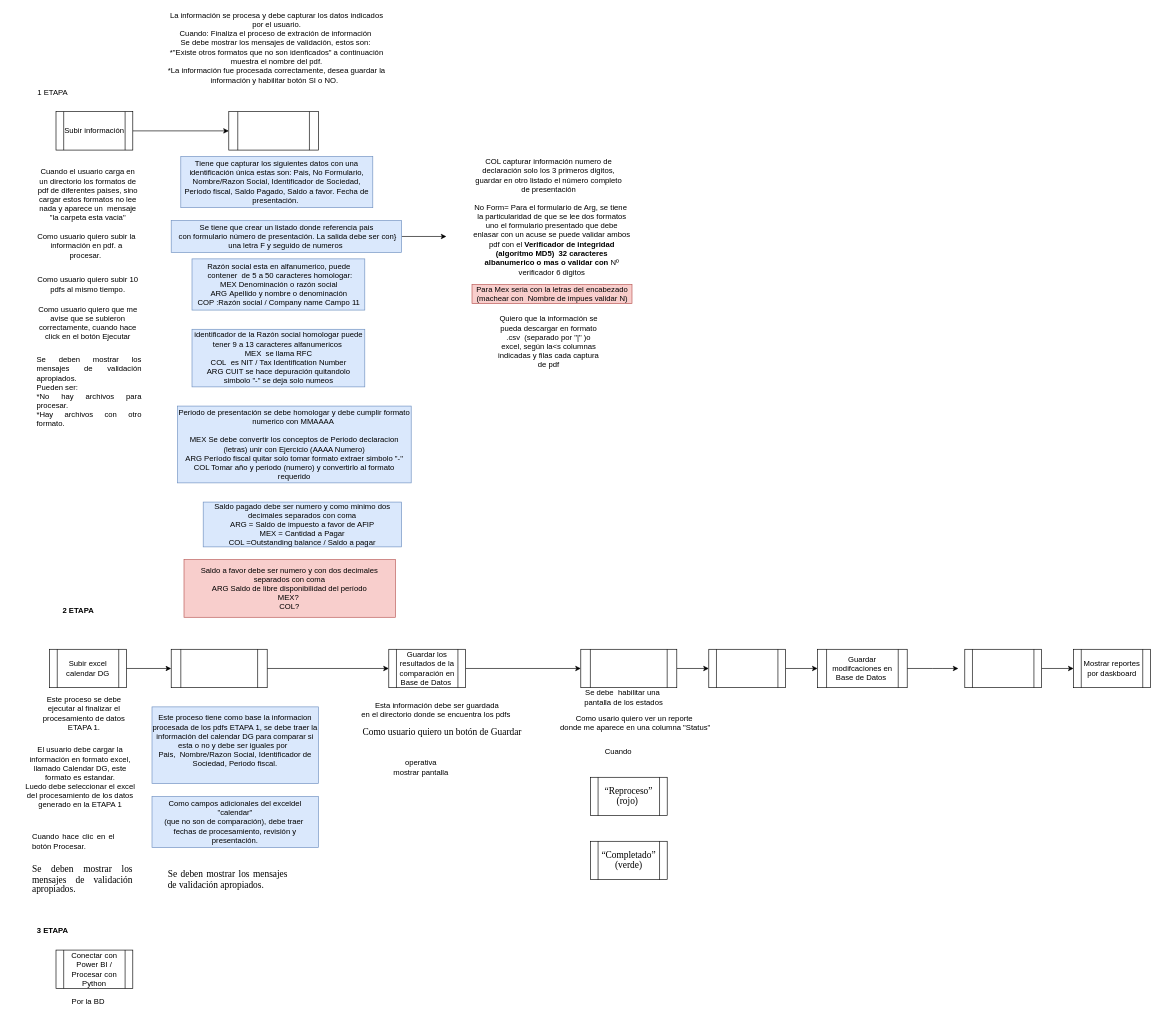
The diagram is 1162 pixels wide and 1019 high, and some of its shapes have lost their labels. Each missing label, with the centre of its shape:
Armado de métricas: the point at 1003,668
Capturar información pdfs y guardado en la Base de Datos: the point at 273,130
Comparar información extraida de los pdfs en Base de Datos: the point at 219,668
Ingreso de modificaciones del Usuario observaciones: the point at 747,668
Mostrar resultados de comparación, reproces y completado: the point at 628,668
